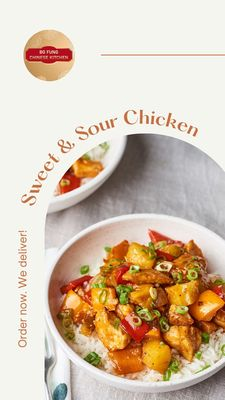curry: (117, 285, 132, 305)
sushi: (45, 213, 225, 395)
